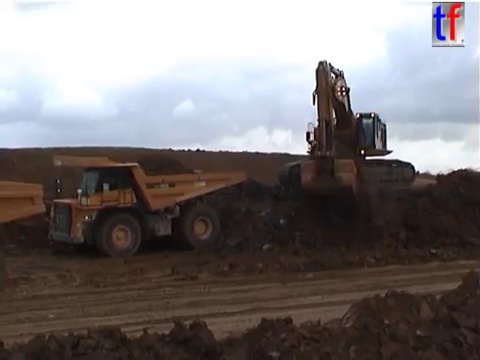excavator: (276, 58, 417, 200)
truck: (46, 153, 246, 259), (1, 176, 49, 292)
